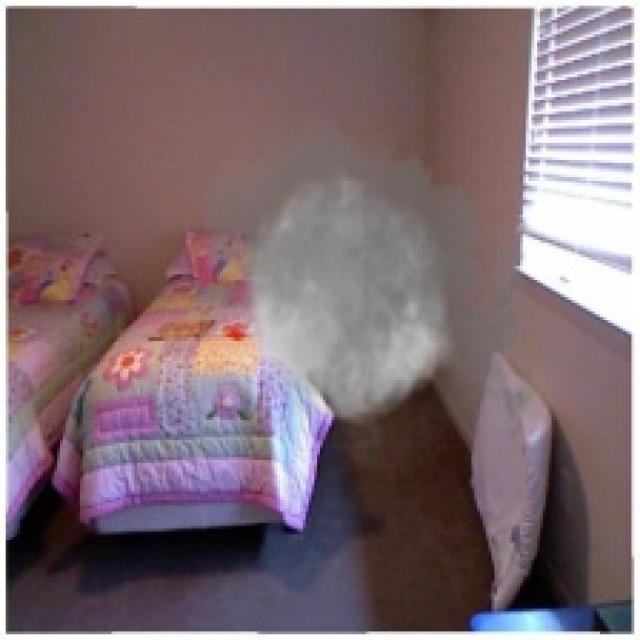Smoke: (188, 102, 548, 492)
